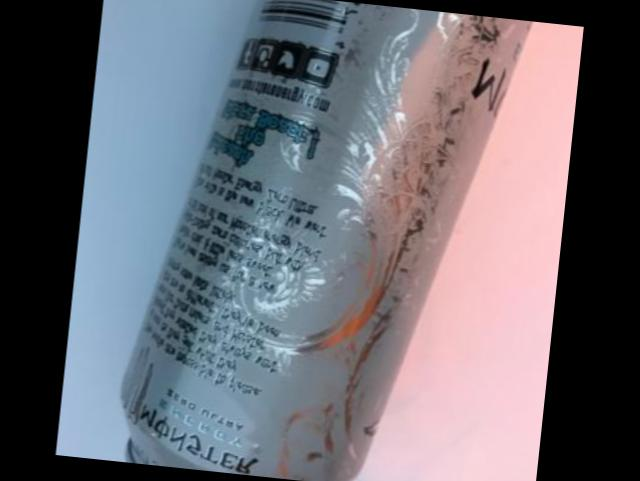metal: (125, 0, 533, 481)
